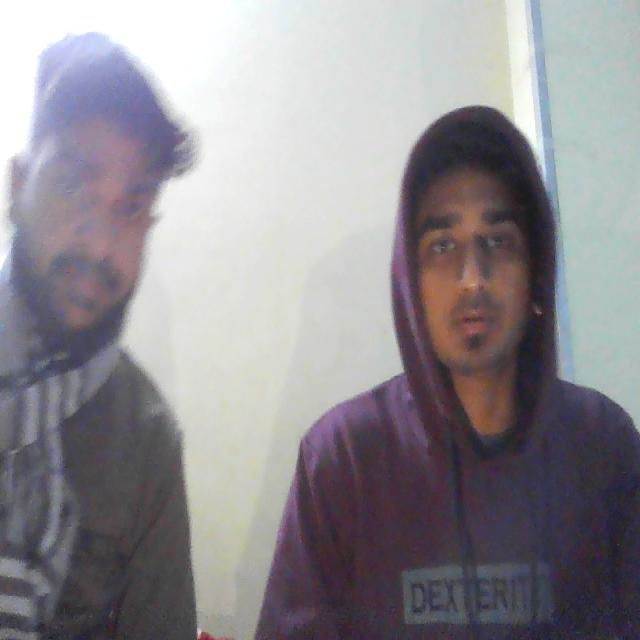real: (3, 34, 174, 358), (401, 112, 552, 397)
